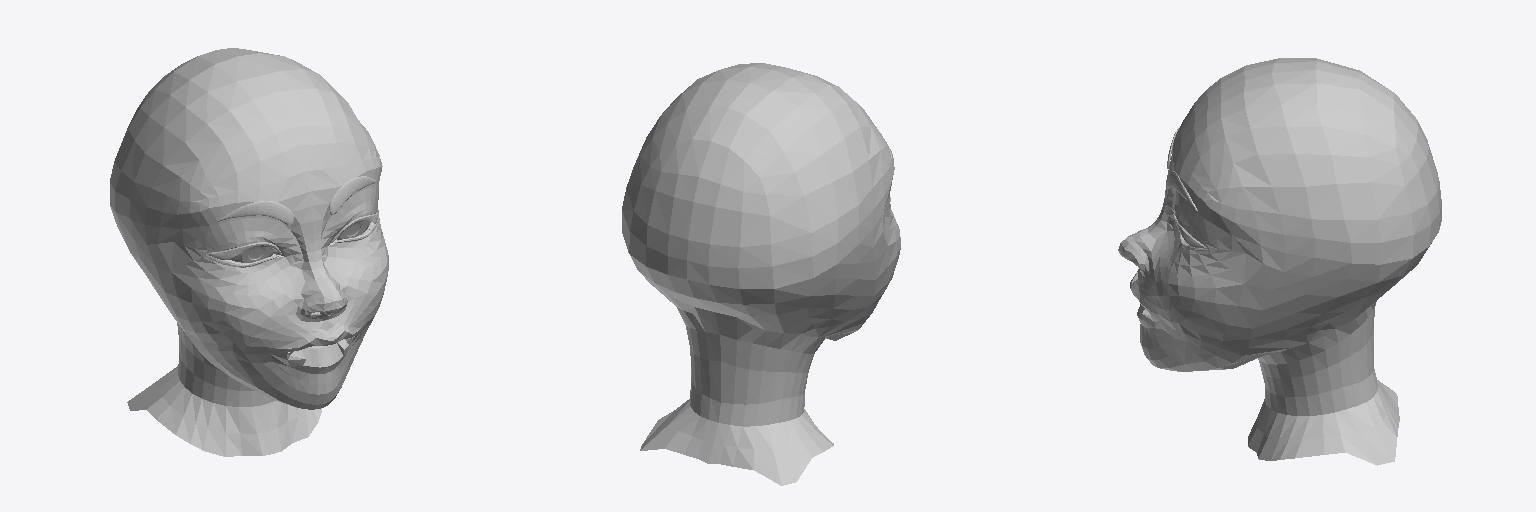
3 renders of one model, left to right at view 1: azimuth 30°, elevation 25°; view 2: azimuth 150°, elevation 25°; view 3: azimuth 270°, elevation 25°, orthographic.
Visible parts, largest first — view 1: f_body_Plane.013; view 2: f_body_Plane.013; view 3: f_body_Plane.013.
Boxes of the visible parts, x1=… form: f_body_Plane.013: x1=110, y1=48, x2=388, y2=456; f_body_Plane.013: x1=622, y1=63, x2=900, y2=485; f_body_Plane.013: x1=1118, y1=58, x2=1441, y2=465.
Bounding box in the file's own units: 0.7869 × 1.29 × 1.01.